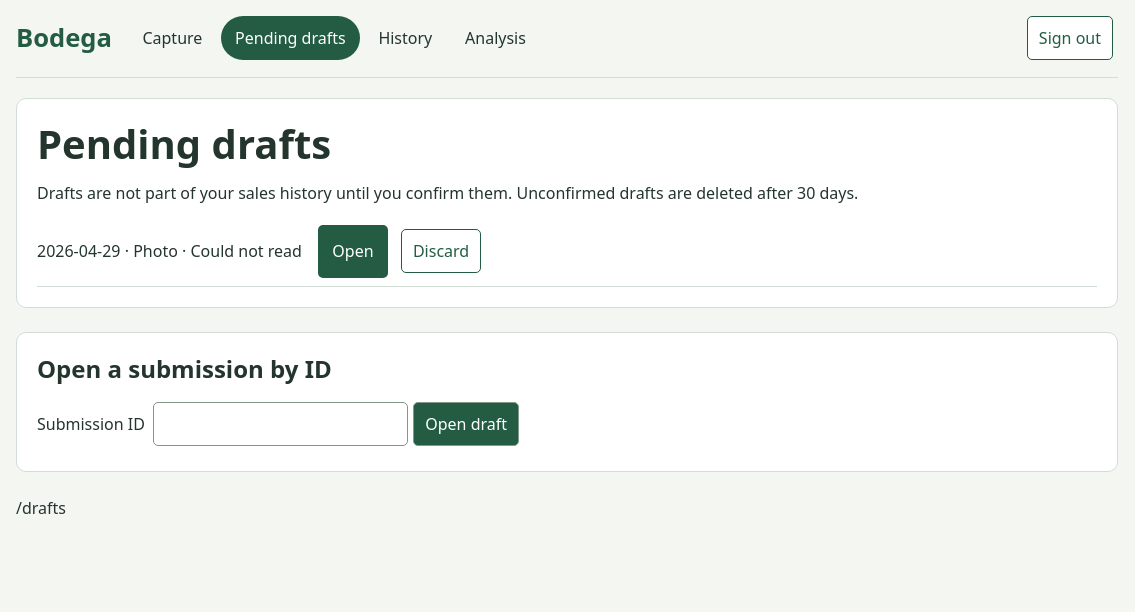
Test case: application shell › lists pending drafts from the API and discards one (FR-216)
The width and height of the screenshot is (1135, 612).
Expected: the text "2026-04-29 · Photo · Could not read" is shown, [37,239,302,263]
Click the button with aria-label "Discard draft from 2026-04-29" at (441, 251), box [401,229,481,273]
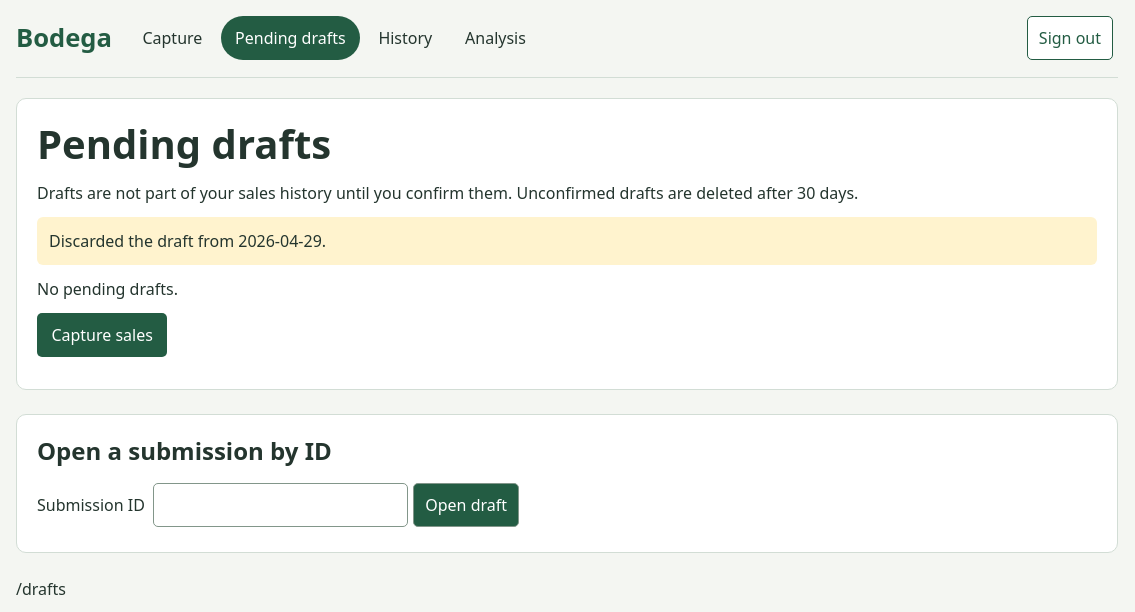
Expected: the text "Discarded the draft from 2026-04-29." is shown, [37,217,1097,265]
Expected: the text "No pending drafts." is shown, [37,278,178,300]
